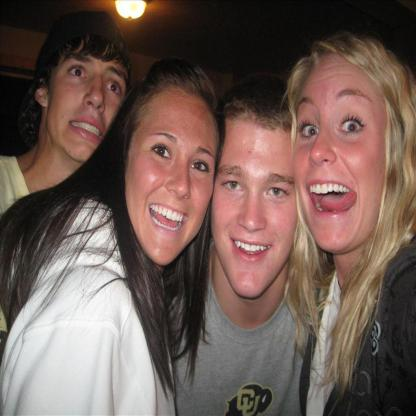face: (298, 57, 388, 249), (129, 89, 217, 264), (214, 123, 299, 299), (53, 31, 130, 161)
